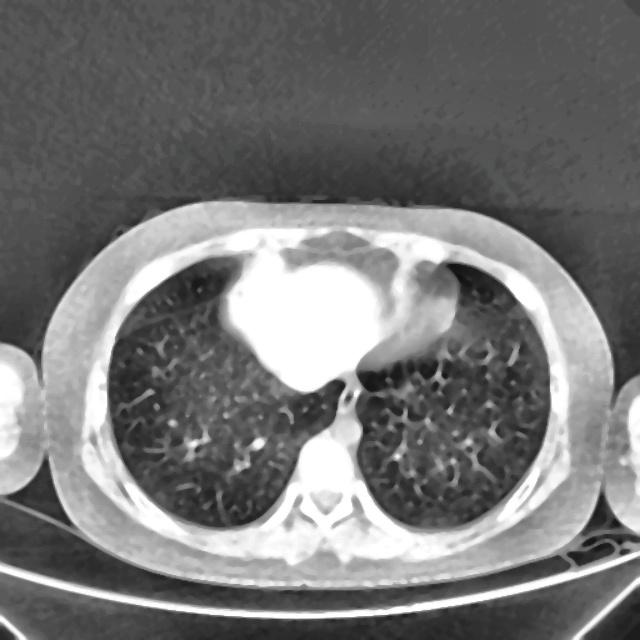covid: (5, 198, 625, 590)
